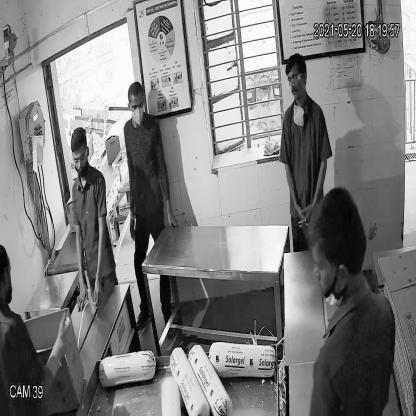goggles: (284, 72, 305, 90), (71, 150, 89, 166)
no_goggles: (127, 98, 148, 111)
